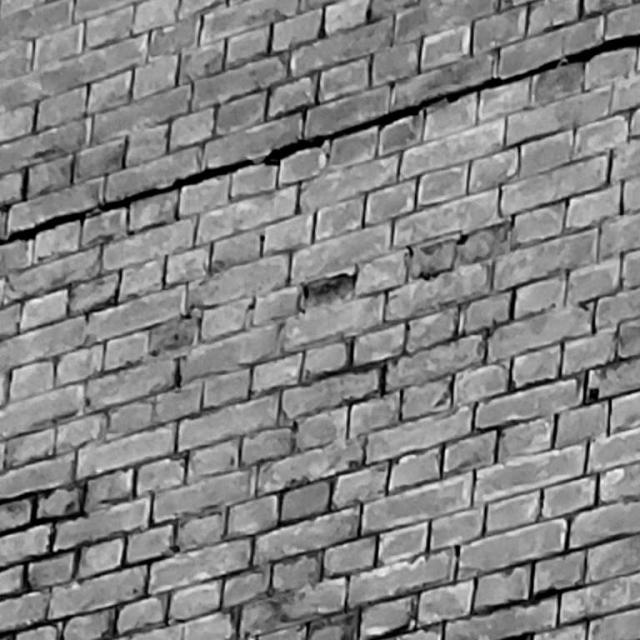crack: (1, 34, 640, 246)
